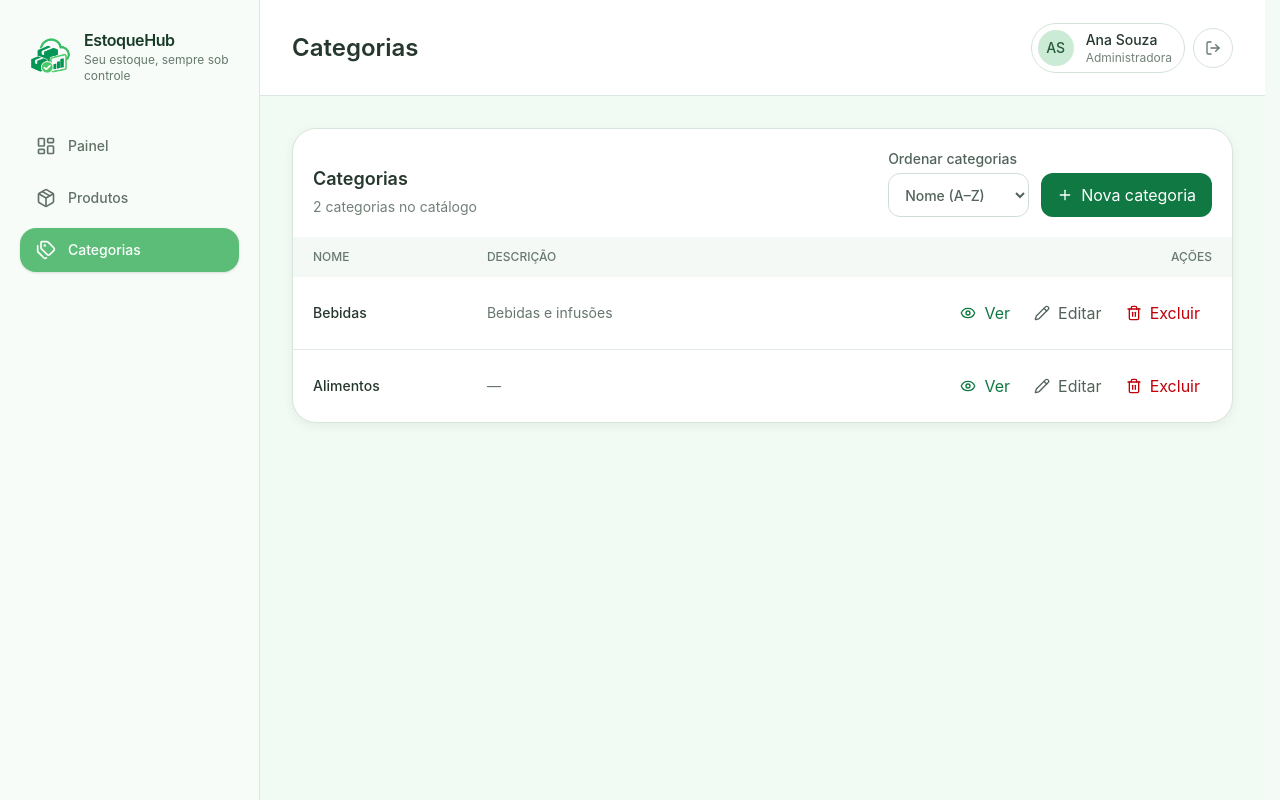
Test: CategoriesPage › allows an admin to edit a category
The image size is (1280, 800).
Click the button with aria-label "editar bebidas".
click(1068, 313)  # box [1022,293,1114,333]
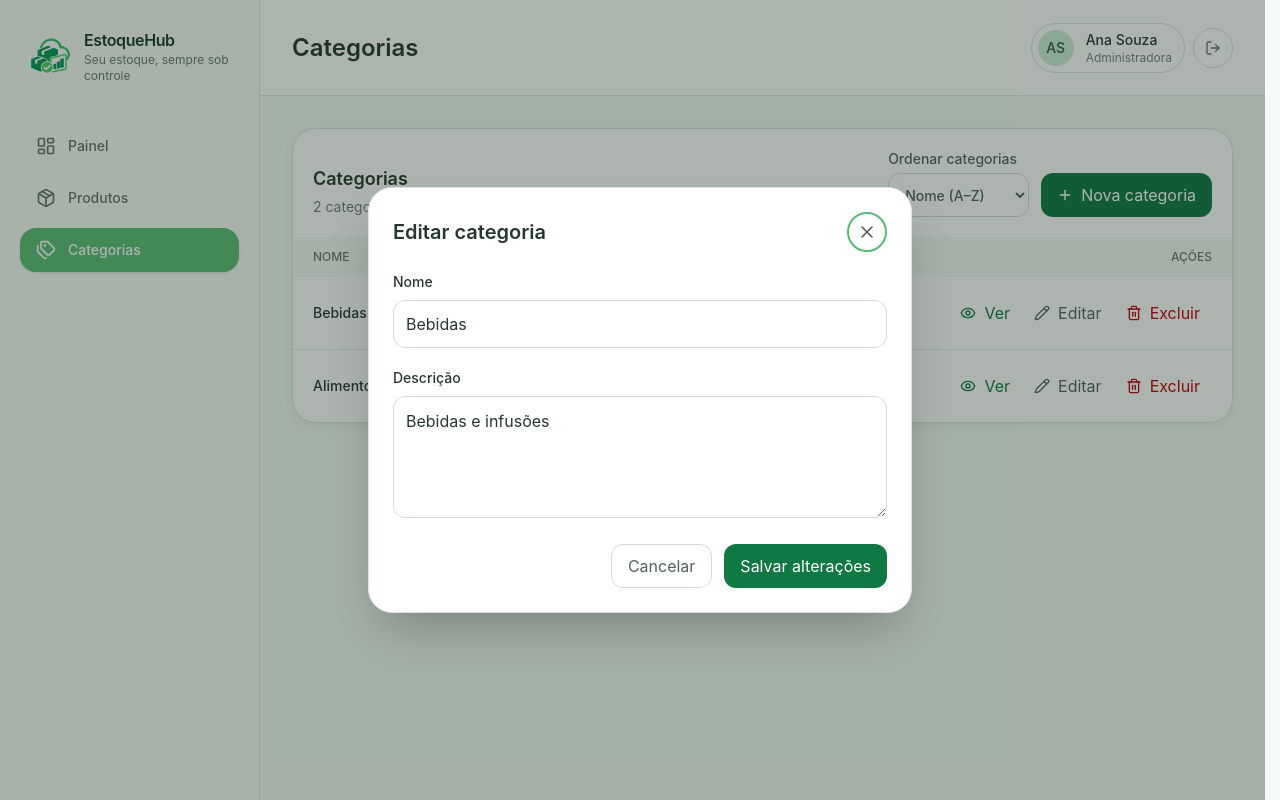
Replace the text in the field labelled "Nome" with "Bebidas frias" at coordinates (640, 324), box [393,300,887,348]
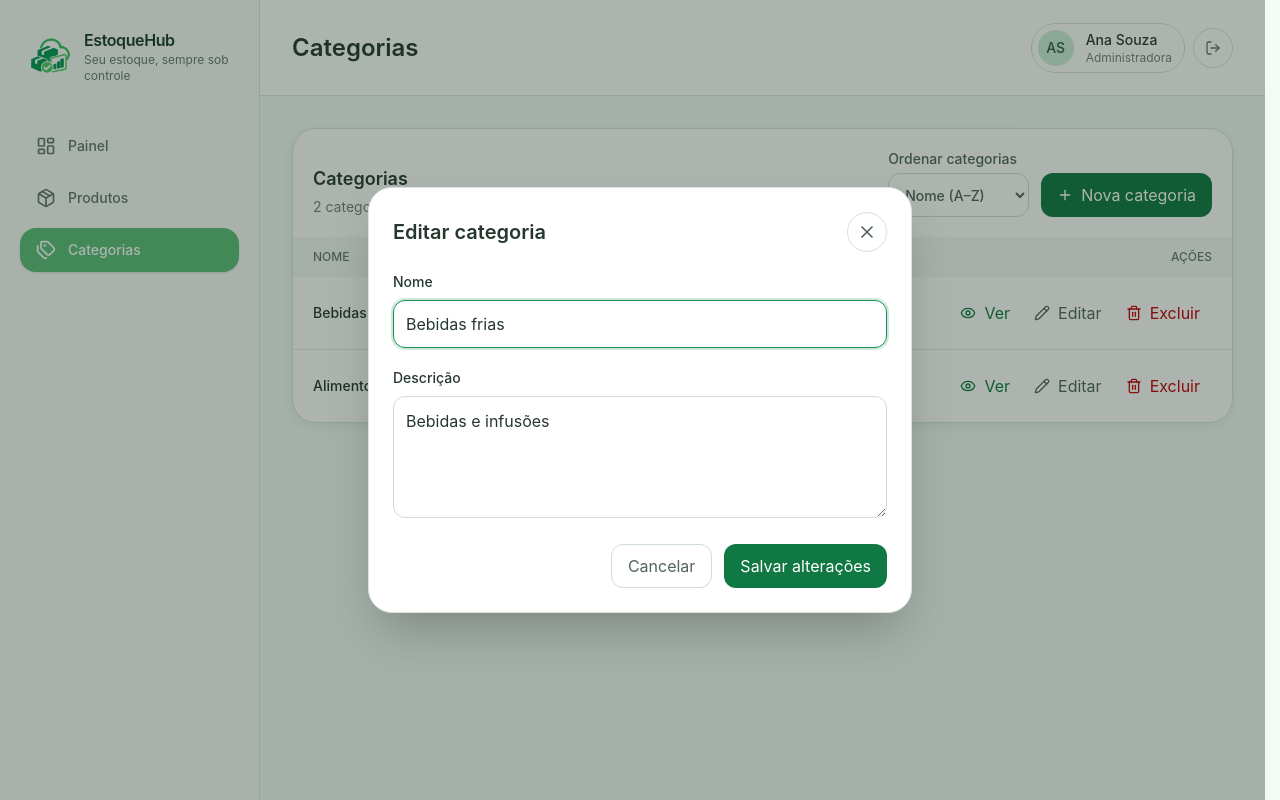
Click the button "Salvar alterações".
click(806, 566)  # box [724,544,887,588]
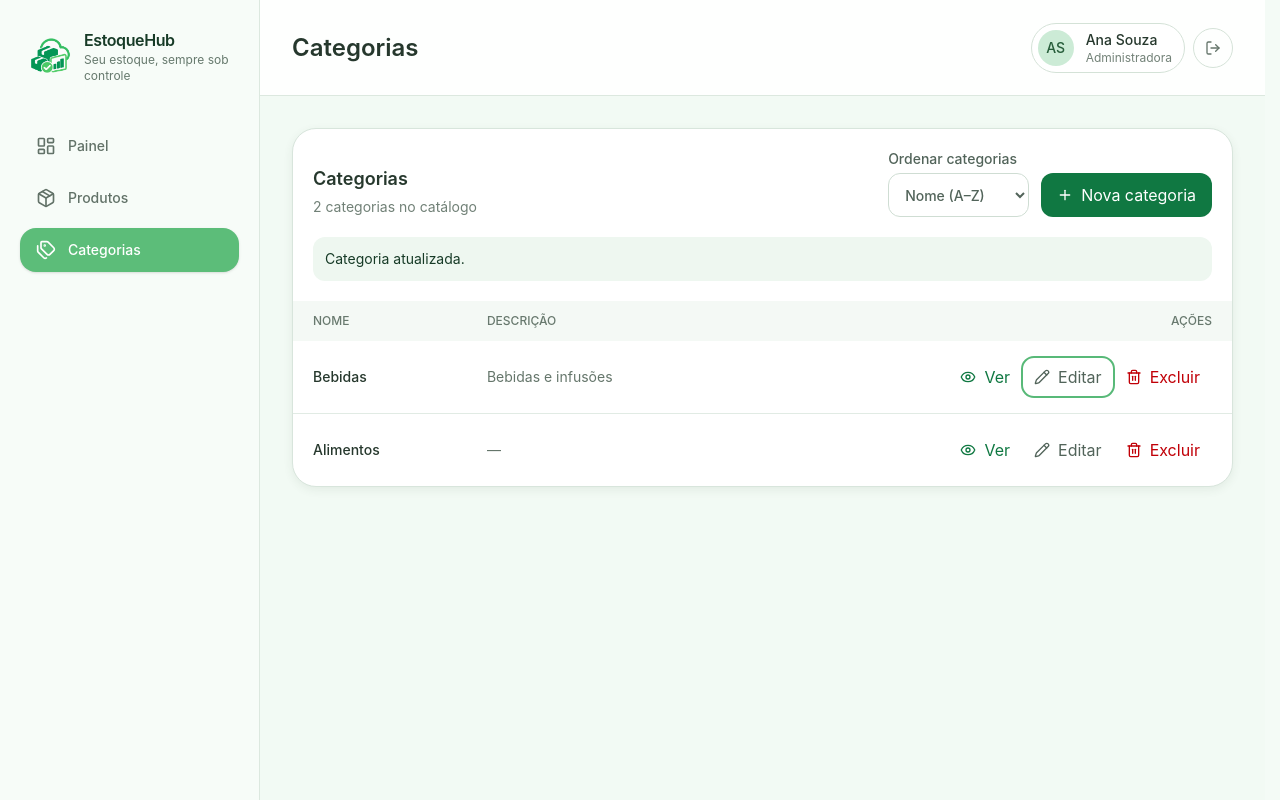
Expected: the text "Categoria atualizada." is shown, [313,237,1212,281]
